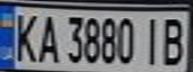0: (115, 14, 139, 65)
3: (60, 12, 84, 64)
8: (81, 14, 103, 65), (100, 14, 121, 65)
A: (33, 11, 60, 63)
B: (157, 14, 190, 66)
I: (139, 14, 166, 66)
K: (9, 9, 42, 63)
